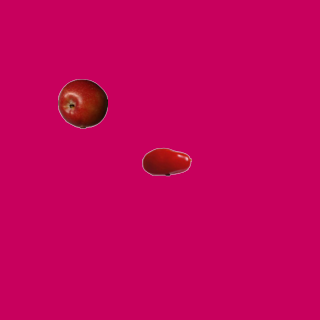Apple Braeburn: (57, 78, 107, 128)
Tomato 2: (141, 136, 191, 186)
